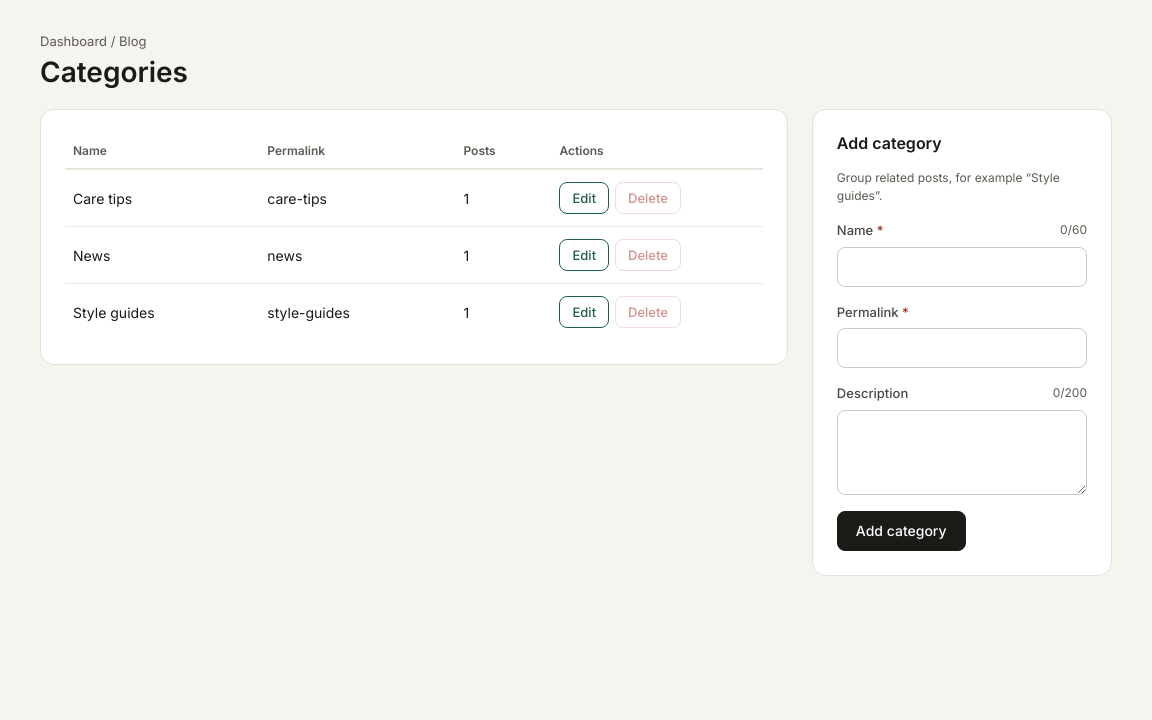
Categories and tags › adds a category with an auto permalink
Type "Sale News" into the field labelled "Name *" at [962, 267], box [837,247,1087,287]
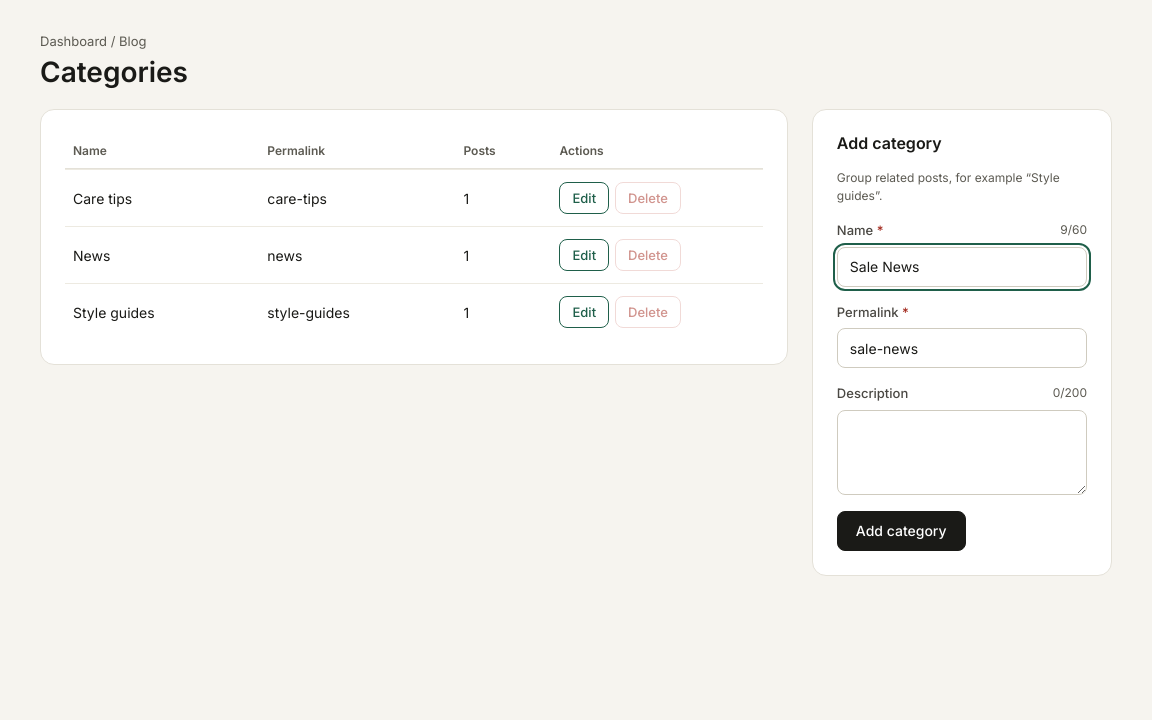
expect the field labelled "Permalink *" holds "sale-news": met, box [837,328,1087,368]
Click the button "Add category" at [901, 531], box [837,511,966,551]
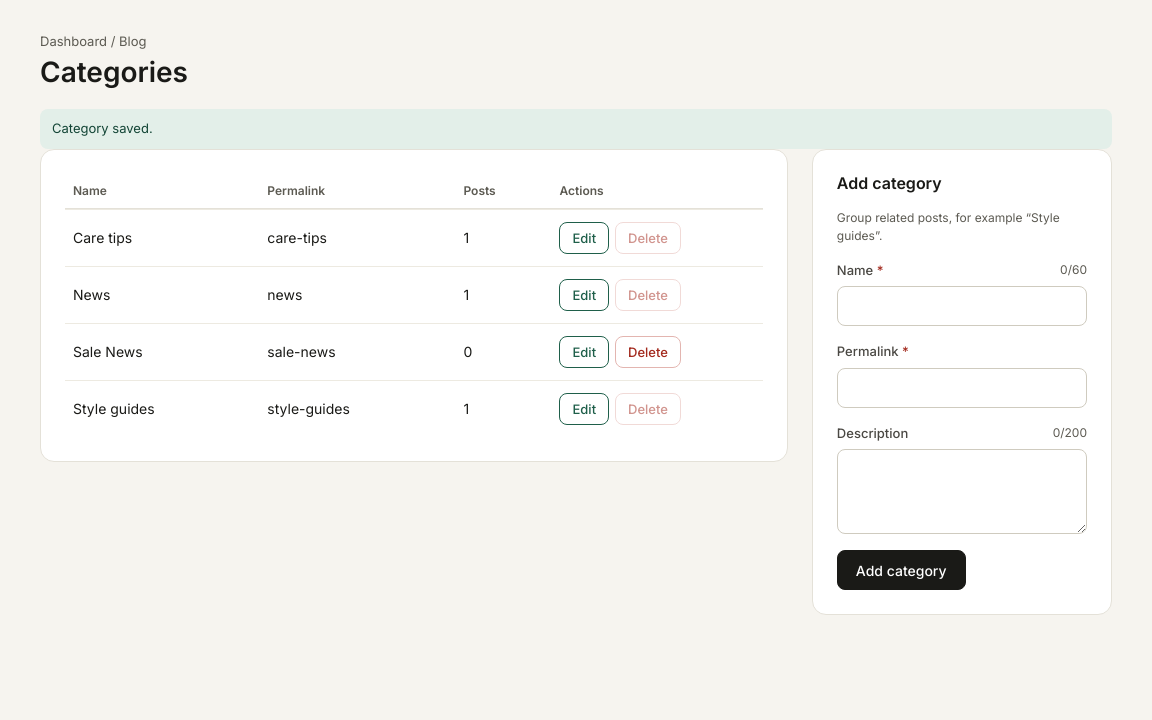
expect the text "Category saved." is shown: met, box [40,109,1112,149]
expect the cell "Sale News" is shown: met, box [65,323,259,380]
